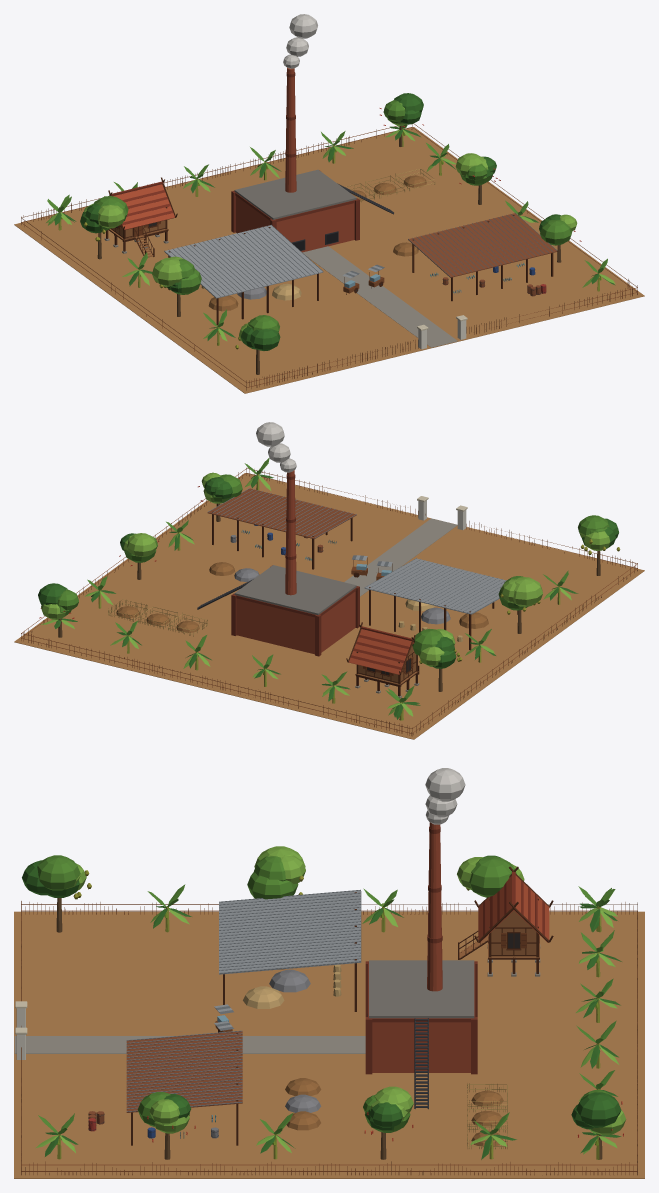
File: waste.glb
3 views of the same model, one above another, from view 1: azimuth 30°, elevation 25°; view 2: azimuth 150°, elevation 25°; view 3: azimuth 270°, elevation 25° (orthographic). The views are drawn at different scales.
Visible parts, largest first — view 1: body; view 2: body; view 3: body.
Boxes of the visible parts, x1,y1,x2,y2 form: body: [14, 14, 644, 393]; body: [14, 422, 644, 739]; body: [14, 768, 644, 1178].
Size of the model in its own units: 47.9 by 24.04 by 47.9.
